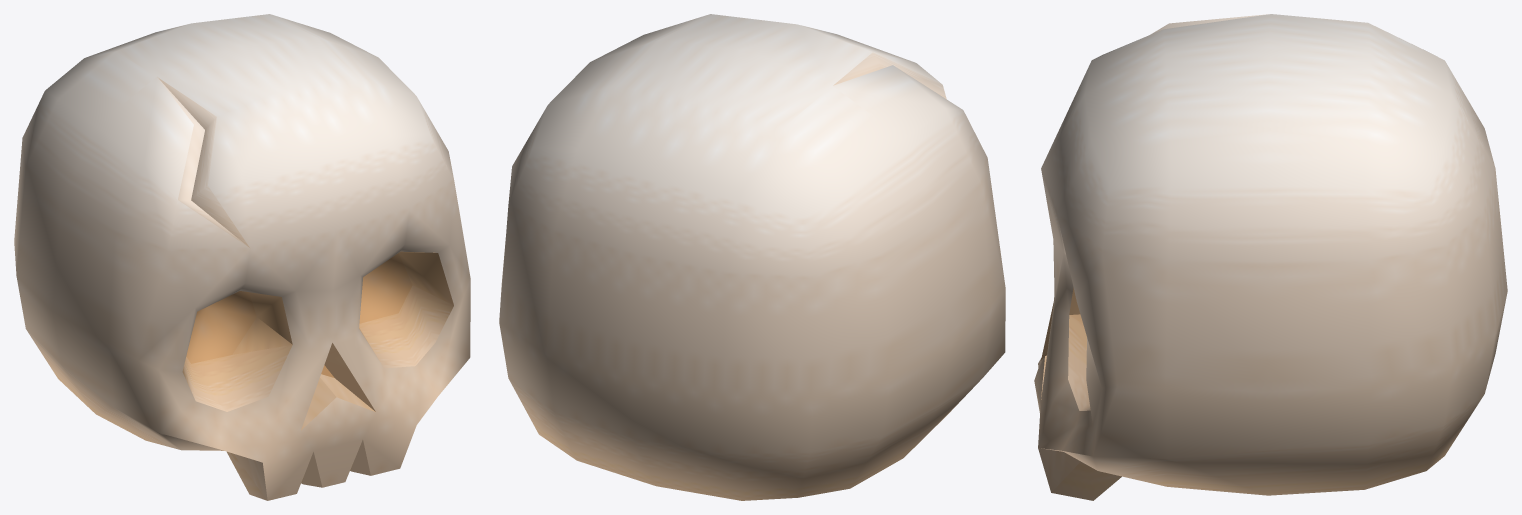
File: skull.glb
The picture shows the model from 3 angles, left to right: view 1: azimuth 30°, elevation 25°; view 2: azimuth 150°, elevation 25°; view 3: azimuth 270°, elevation 25°; orthographic projection. The views are drawn at different scales.
Parts seen in each view (by area): view 1: skull; view 2: skull; view 3: skull.
Part boxes in pixels (x1=…): skull: x1=14, y1=14, x2=470, y2=500; skull: x1=499, y1=14, x2=1005, y2=500; skull: x1=1034, y1=14, x2=1507, y2=500.
Size of the model in its own units: 0.9176 by 0.8982 by 0.9072.
1 material, 1 textured.
